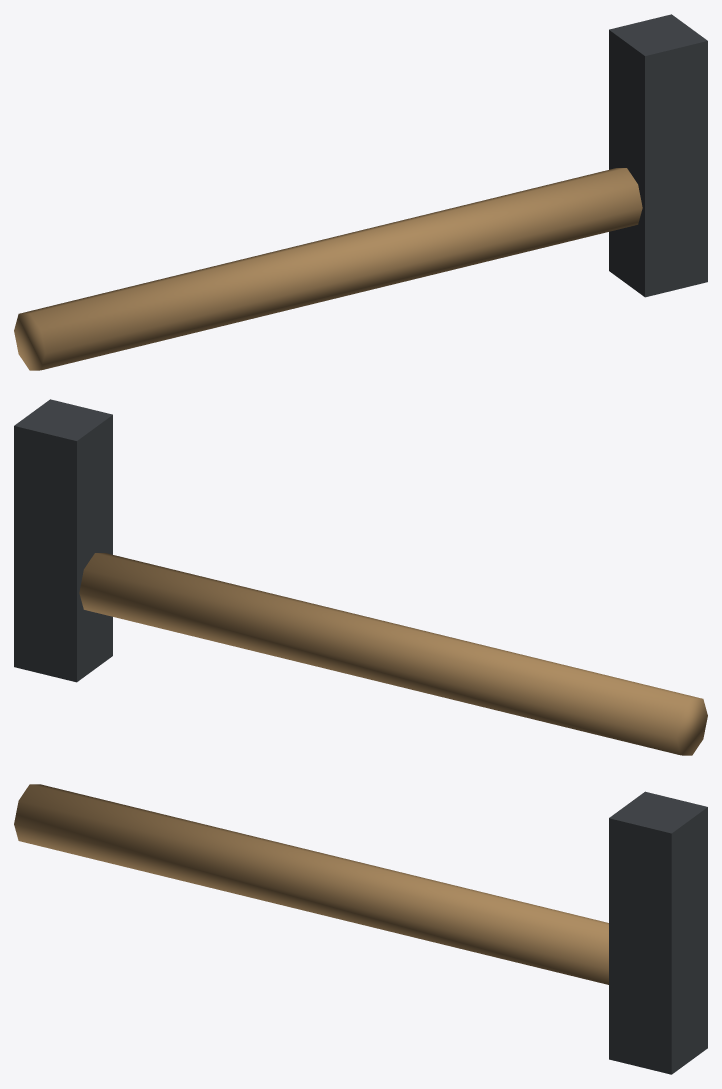
File: hammer.glb
3 views of the same model, one above another, from view 1: azimuth 30°, elevation 25°; view 2: azimuth 150°, elevation 25°; view 3: azimuth 330°, elevation 25° (orthographic).
Visible parts, largest first — view 1: Item; view 2: Item; view 3: Item.
Boxes of the visible parts, x1,y1,x2,y2 form: Item: (14, 14, 707, 370); Item: (14, 399, 707, 755); Item: (14, 784, 707, 1074).
Bounding box in the file's own units: 0.315 × 0.11 × 0.03.
